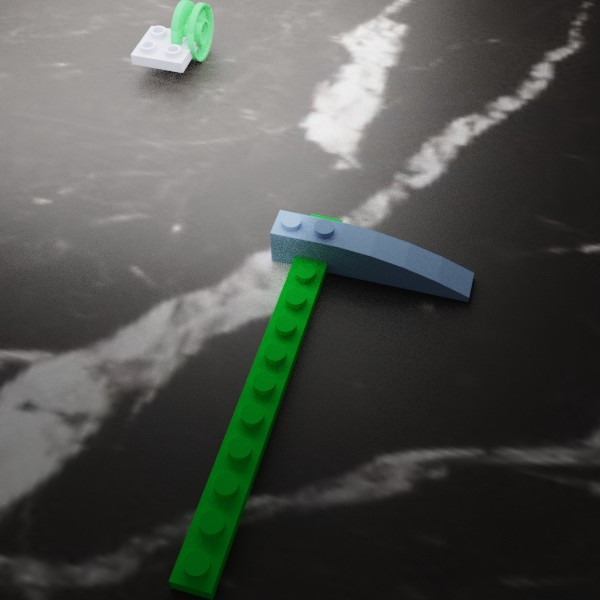lego: (168, 214, 342, 600), (270, 209, 474, 302), (130, 25, 201, 72), (170, 0, 213, 61)
